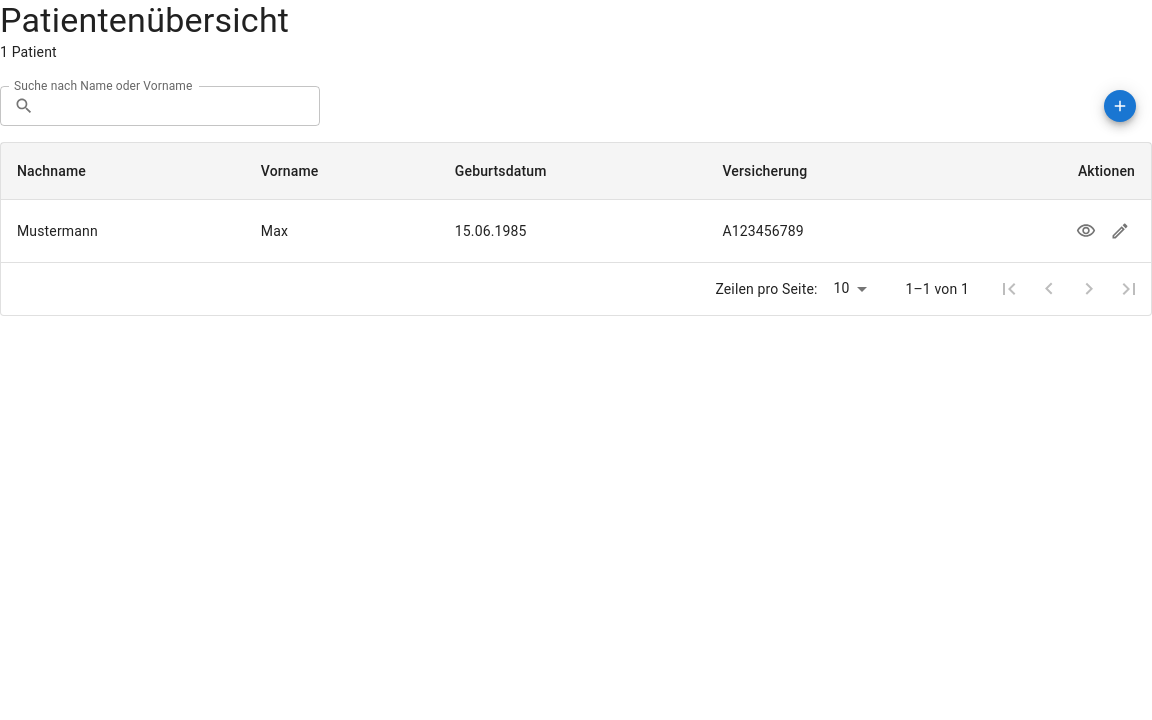
Overview › Bearbeiten › zeigt eine Ladeanzeige, waehrend die vollen Patientendaten nachgeladen werden
The width and height of the screenshot is (1152, 720).
Click the button named "Patient bearbeiten": click(1120, 231) [1105,216,1135,246]
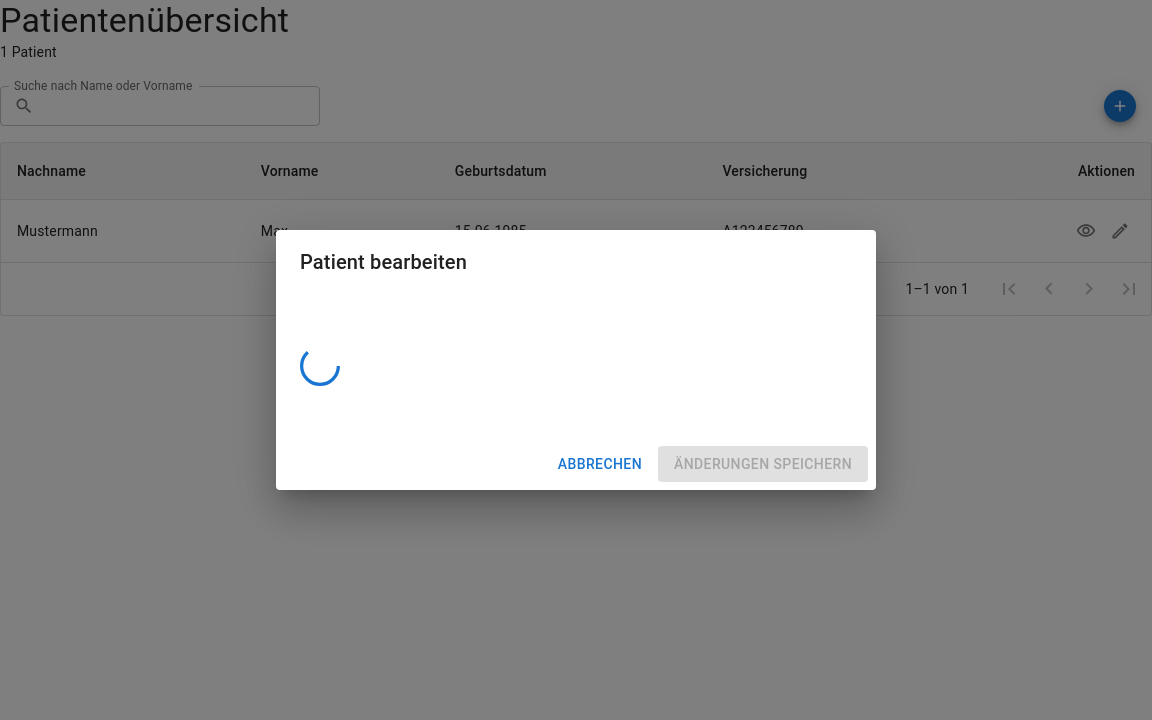
Expected: the progress indicator named "Patientendaten werden geladen" is shown, [300,346,340,386]
